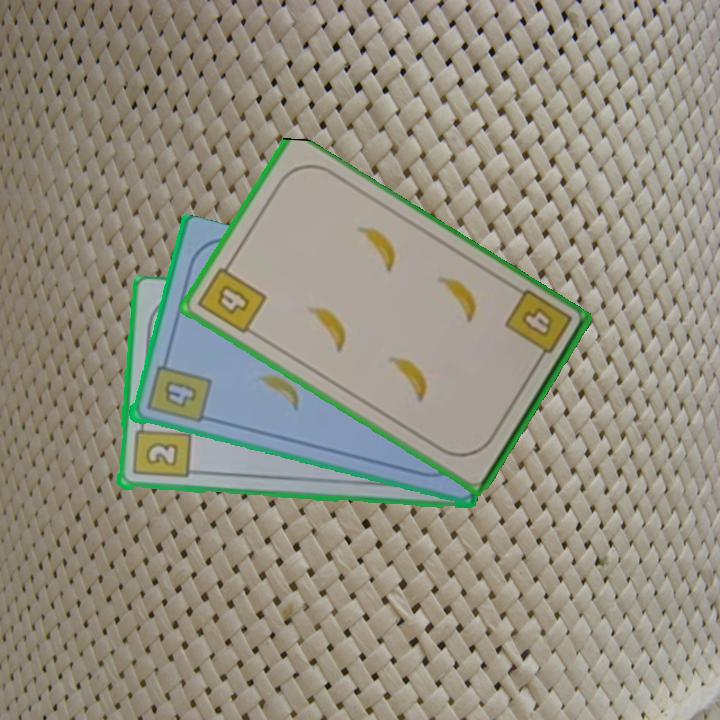2b: (129, 417, 192, 482)
4b: (194, 257, 270, 337), (501, 286, 575, 368), (142, 354, 213, 427)
